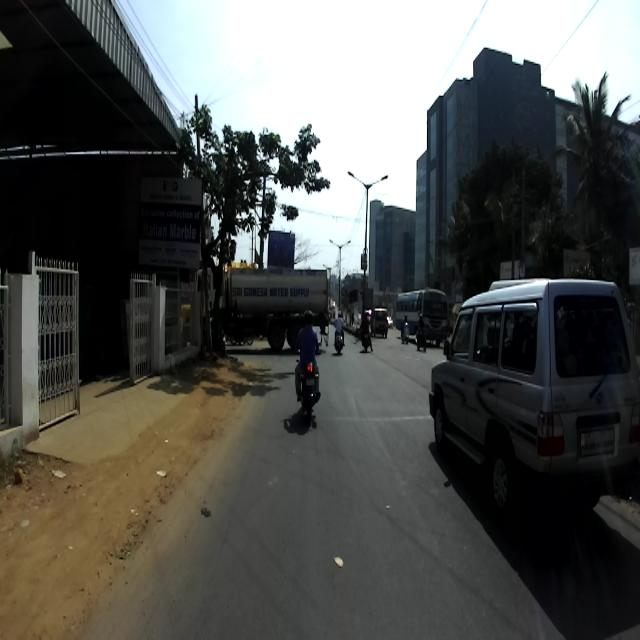car ahead at: (425, 269, 639, 512)
motorcycle ahead at: (288, 352, 326, 422)
truck ahead at: (218, 262, 334, 351)
